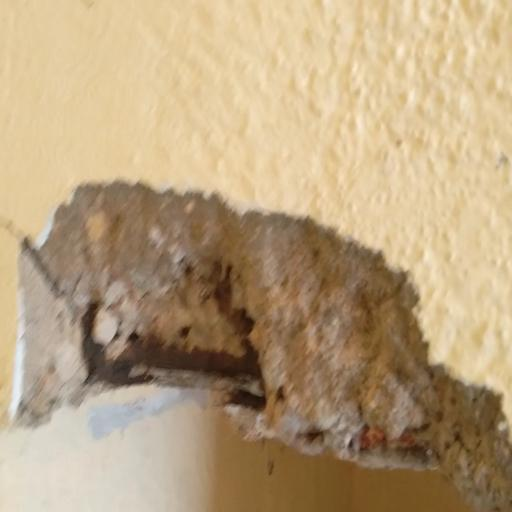spalling: (15, 175, 512, 512)
